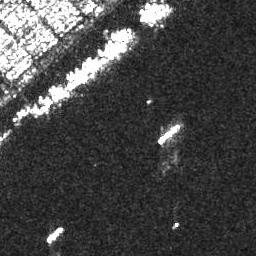ship: (156, 122, 181, 145), (67, 73, 88, 92), (44, 226, 65, 243), (88, 58, 109, 74), (34, 100, 53, 116), (172, 221, 180, 230)
